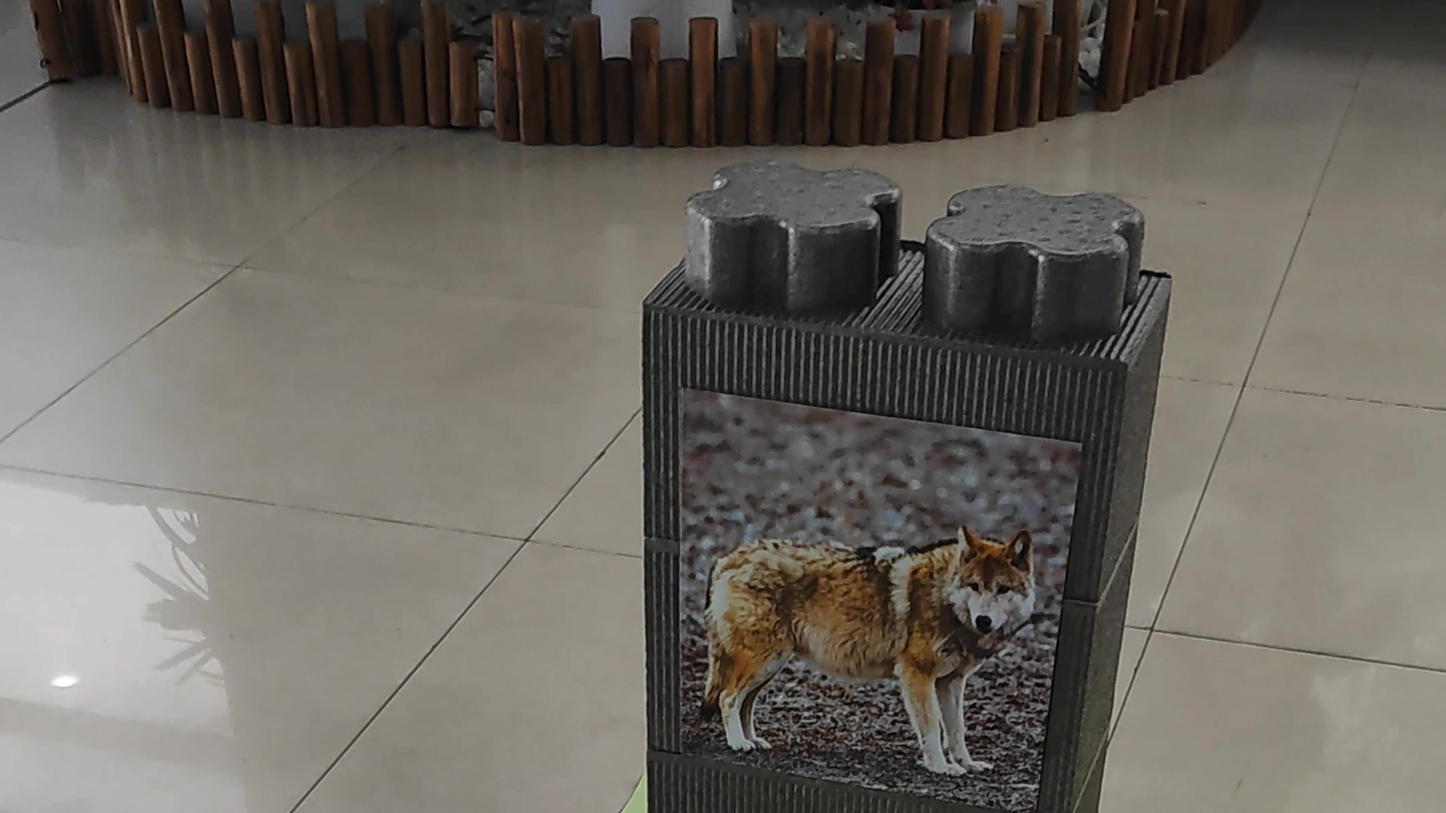wolf: (684, 478, 1049, 793)
